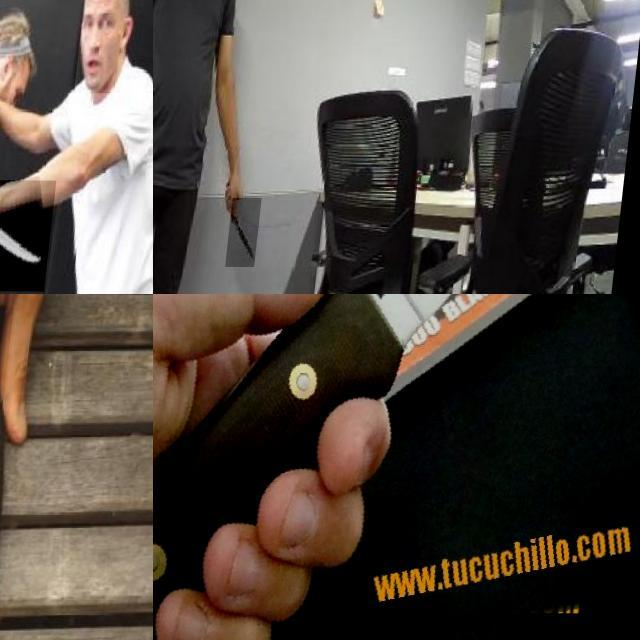-: (153, 294, 640, 640), (0, 391, 93, 640), (0, 395, 65, 640), (0, 179, 62, 291), (238, 198, 272, 266)
